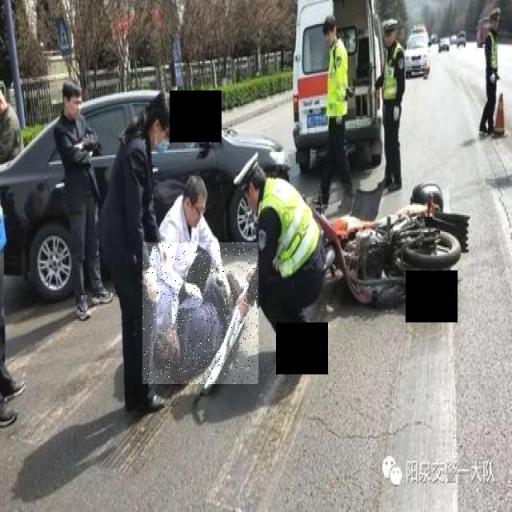Fall: (143, 242, 259, 384)
